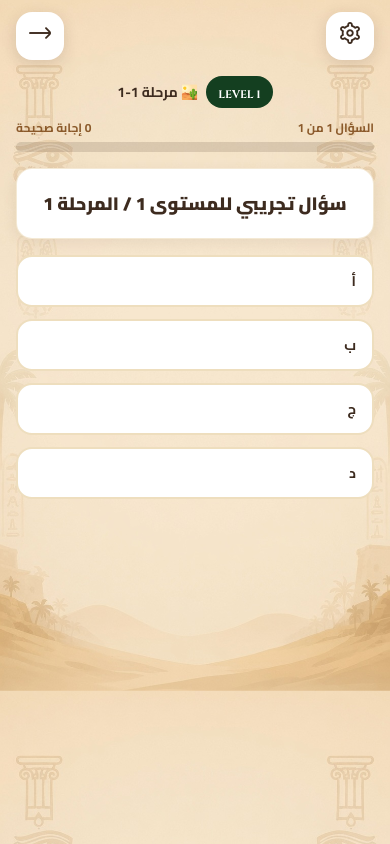
Test: QuizPage - الانتقال من مرحلة لمرحلة › ينتقل لأسئلة جديدة فعلياً عند الضغط على "المرحلة التالية" (نفس المستوى)
Click the button "أ" at x=354, y=281, box [16, 255, 374, 307]
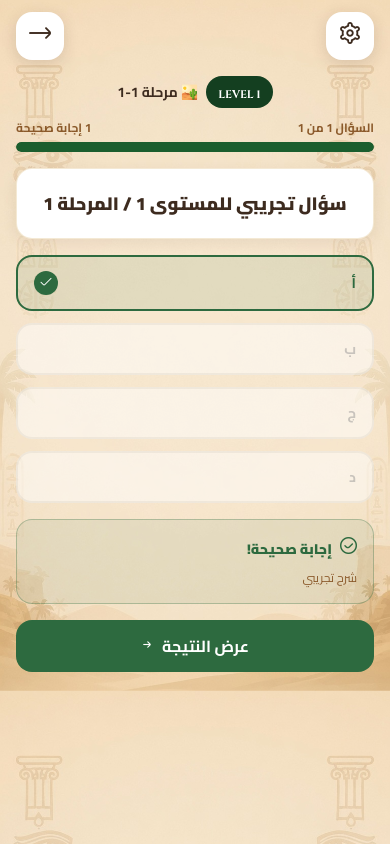
Click the button "عرض النتيجة" at x=195, y=646, box [16, 620, 374, 672]
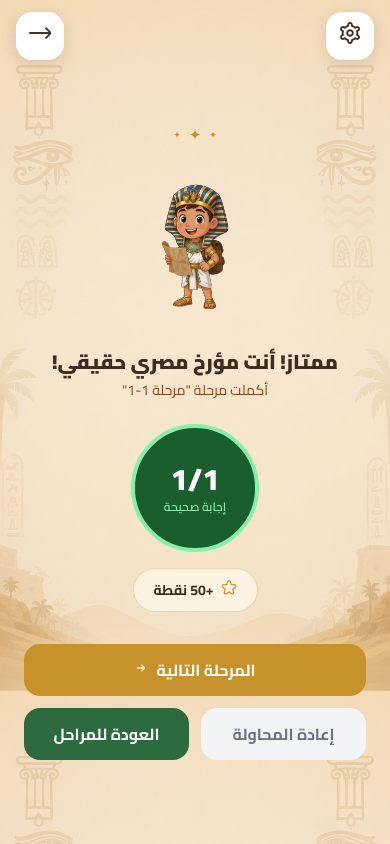
Click the button "المرحلة التالية" at x=195, y=670, box [24, 644, 366, 696]
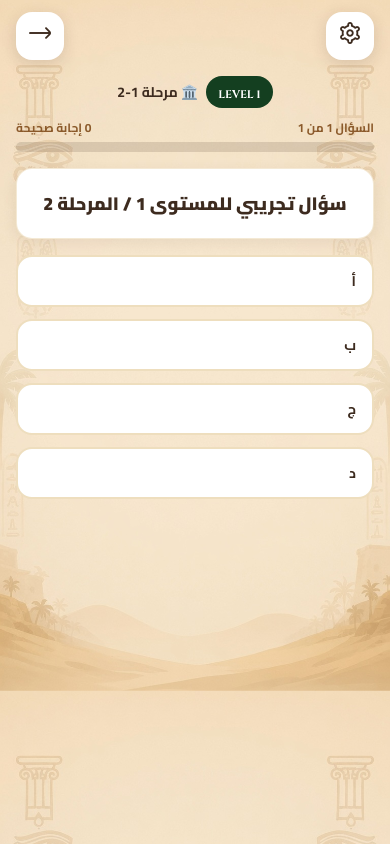
Result: the text "سؤال تجريبي للمستوى 1 / المرحلة 2" is shown at [37, 189, 353, 218]
Result: the button "المرحلة التالية" is gone
